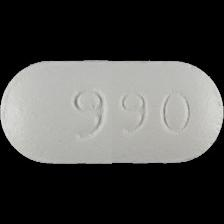0093-7290: (0, 0, 224, 224)
